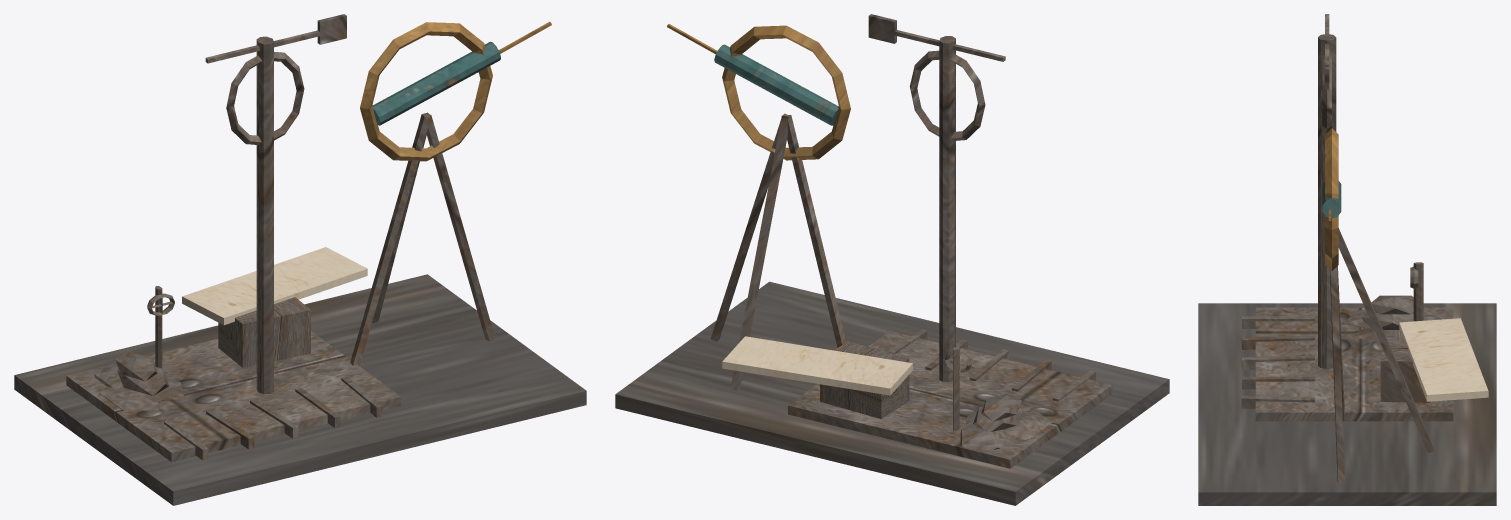
Rendered from south-survey-rig.glb.
3 views of the same model, side by side, from view 1: azimuth 30°, elevation 25°; view 2: azimuth 150°, elevation 25°; view 3: azimuth 270°, elevation 25° (orthographic). The views are drawn at different scales.
Visible parts, largest first — view 1: south-survey-rig; view 2: south-survey-rig; view 3: south-survey-rig.
Part boxes in pixels (x1,y1,x2,y2): south-survey-rig: (14, 14, 586, 505); south-survey-rig: (615, 14, 1169, 505); south-survey-rig: (1198, 14, 1496, 505).
Bounding box in the file's own units: 7.81 × 6.36 × 4.8.
1 material, 1 textured.
